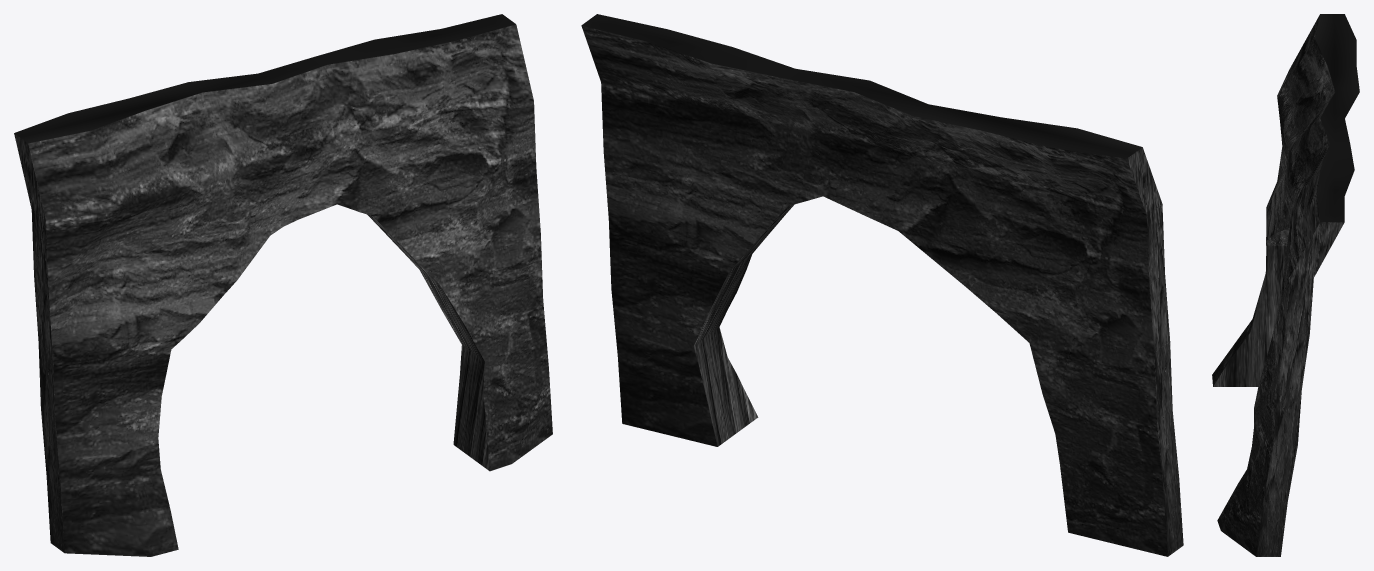
File: Höhle_eingang_offen.fbx
3 renders of one model, left to right at view 1: azimuth 30°, elevation 25°; view 2: azimuth 150°, elevation 25°; view 3: azimuth 270°, elevation 25°, orthographic. The views are drawn at different scales.
Parts seen in each view (by area): view 1: Box001; view 2: Box001; view 3: Box001.
Boxes of the visible parts, x1,y1,x2,y2 form: Box001: (14, 14, 552, 556); Box001: (581, 14, 1183, 556); Box001: (1212, 14, 1359, 556).
Bounding box in the file's own units: 20 × 15 × 6.
1 material, 1 textured.
